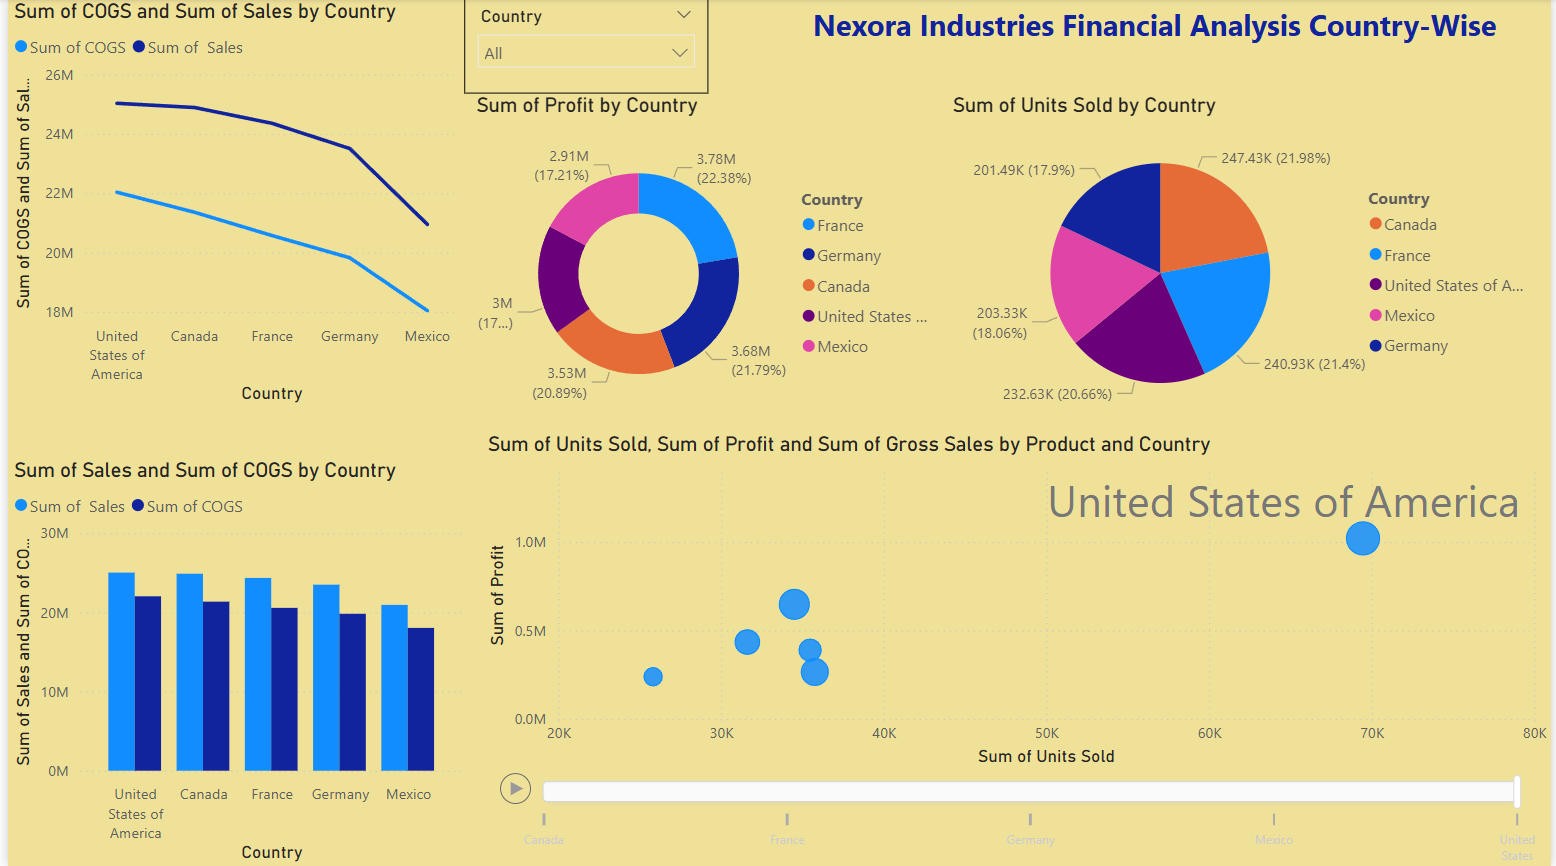

The dashboard page shown, as its layout file describes it:
{"tool":"powerbi","page":{"name":"Page 2","canvas":[1280,720],"ordinal":1},"visuals":[{"type":"clusteredColumnChart","fields":{"Y":["Sum(financials. Sales)","Sum(financials.COGS)"],"Category":["financials.Country"]},"box":[0,380.1,382.8,340.3],"z":0},{"type":"lineChart","fields":{"Category":["financials.Country"],"Y":["Sum(financials.COGS)","Sum(financials. Sales)"]},"box":[0,0,382.8,340.3],"z":1000},{"type":"scatterChart","fields":{"Category":["financials.Product"],"X":["Sum(financials.Units Sold)"],"Y":["Sum(financials.Profit)"],"Size":["Sum(financials.Gross Sales)"],"Play":["financials.Country"]},"box":[392.5,358.1,887.8,362.3],"z":2000},{"type":"pieChart","fields":{"Category":["financials.Country"],"Y":["Sum(financials.Units Sold)"]},"box":[778.3,78.2,502.5,280.3],"z":3000},{"type":"donutChart","fields":{"Category":["financials.Country"],"Y":["Sum(financials.Profit)"]},"box":[383,78.2,395.3,281.4],"z":4000},{"type":"slicer","fields":{"Values":["financials.Country"]},"box":[378.5,0,202.1,78.2],"z":5000},{"type":"textbox","box":[662.2,0,594,52.5],"z":6000}]}

Visuals, with their boxes in screenshot pixels (x1, y1, x2, y2), scaled from the page's 1280x720 canvas onto the 1556x866 screenshot:
clusteredColumnChart - Sum(financials. Sales) x Sum(financials.COGS): {"left": 0, "top": 457, "right": 465, "bottom": 865}
lineChart - financials.Country x Sum(financials.COGS): {"left": 0, "top": 0, "right": 465, "bottom": 409}
scatterChart - financials.Product x Sum(financials.Units Sold): {"left": 477, "top": 431, "right": 1555, "bottom": 865}
pieChart - financials.Country x Sum(financials.Units Sold): {"left": 946, "top": 94, "right": 1555, "bottom": 431}
donutChart - financials.Country x Sum(financials.Profit): {"left": 466, "top": 94, "right": 946, "bottom": 433}
slicer - financials.Country: {"left": 460, "top": 0, "right": 706, "bottom": 94}
textbox: {"left": 805, "top": 0, "right": 1527, "bottom": 63}
